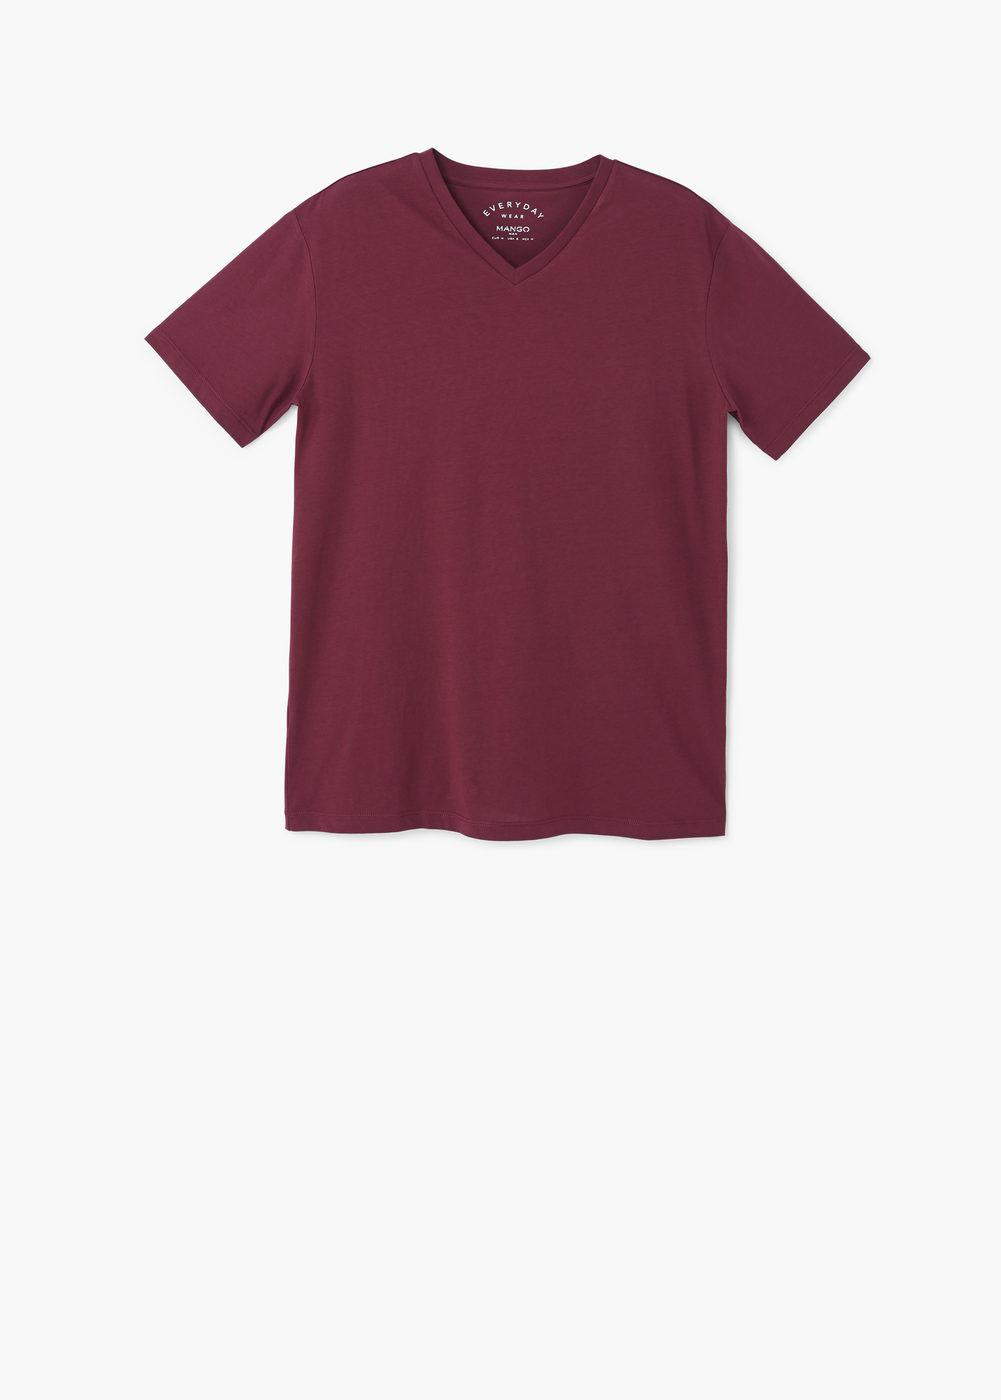teeshirt: (116, 114, 882, 914)
